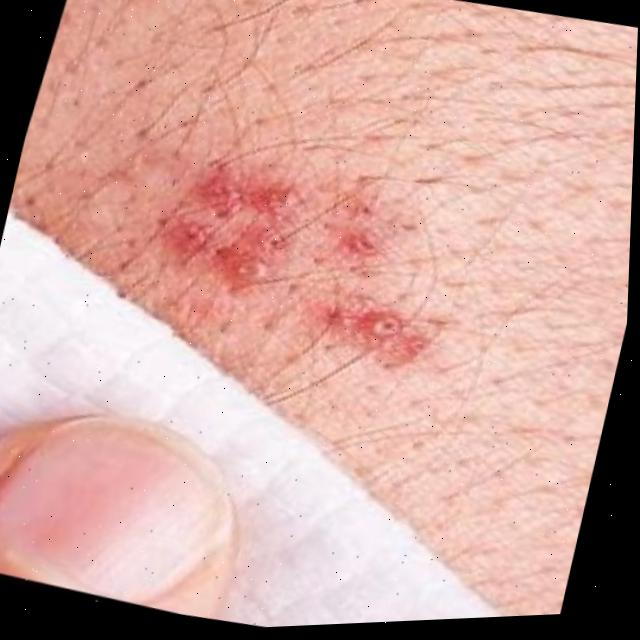Shingles: (152, 161, 485, 384)
